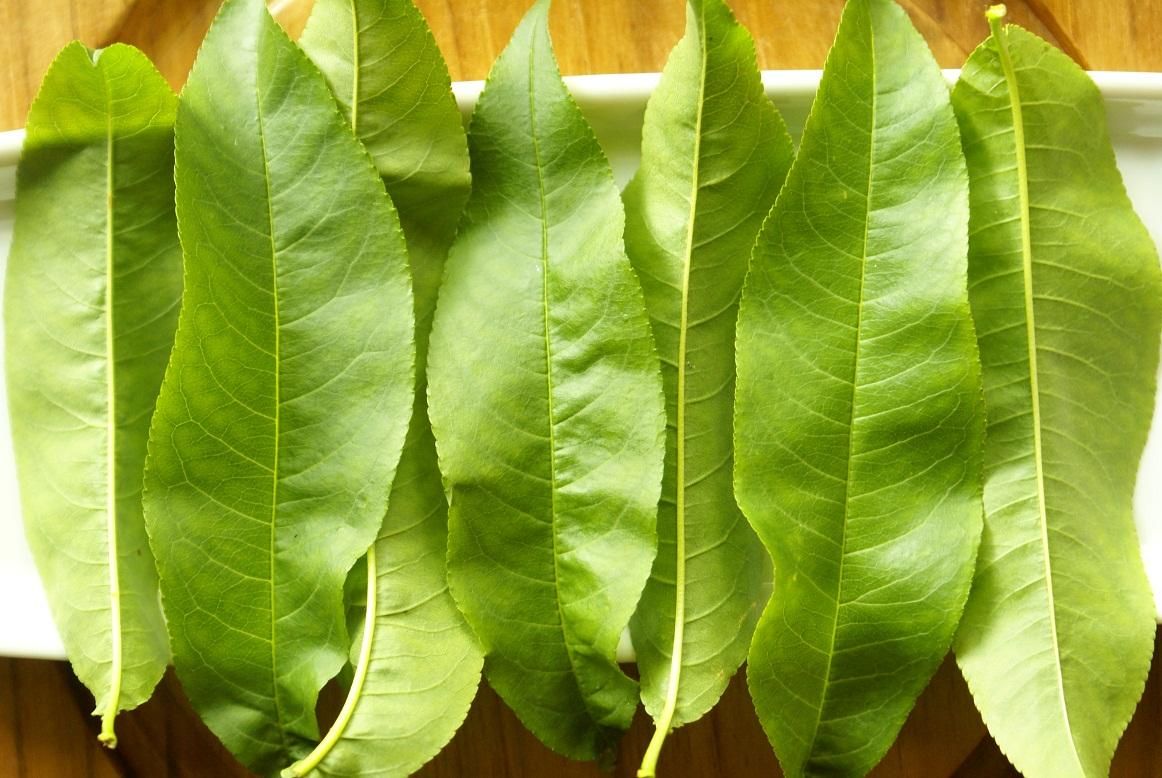Peach leaf: (146, 5, 408, 778), (415, 9, 667, 778), (735, 1, 974, 778), (939, 6, 1145, 778), (18, 39, 175, 733)
